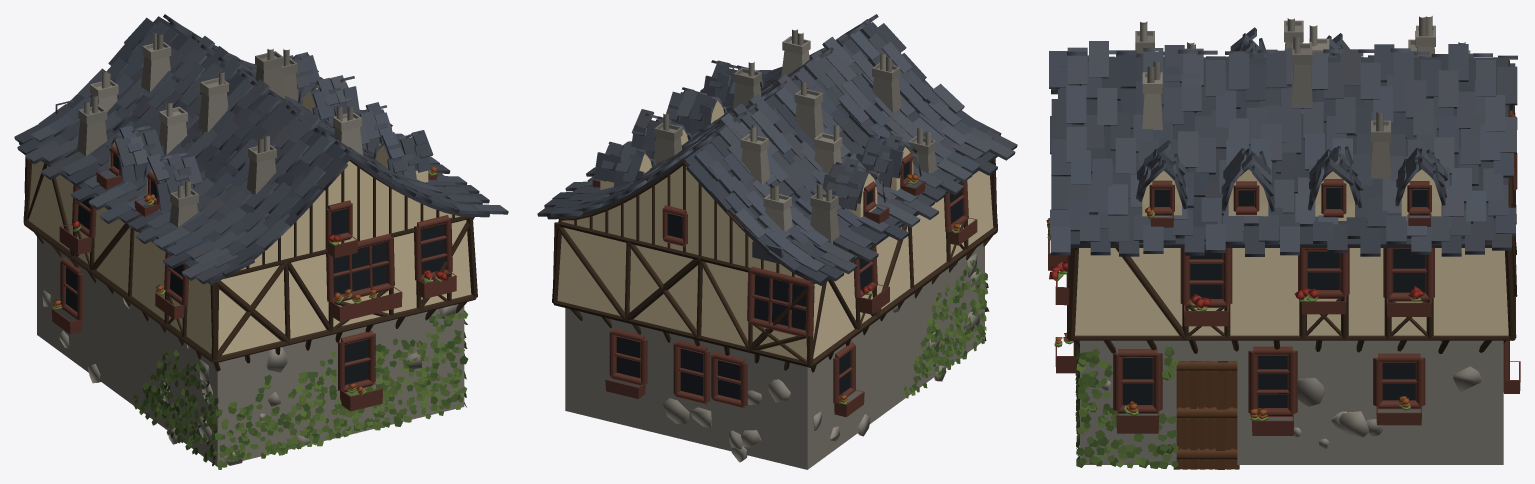
File: house_10.glb
3 views of the same model, side by side, from view 1: azimuth 30°, elevation 25°; view 2: azimuth 150°, elevation 25°; view 3: azimuth 270°, elevation 25° (orthographic). The views are drawn at different scales.
Parts seen in each view (by area): view 1: house_10; view 2: house_10; view 3: house_10.
Part boxes in pixels (<box>): house_10: <box>14,14,508,469</box>; house_10: <box>537,14,1017,469</box>; house_10: <box>1046,16,1520,469</box>.
Size of the model in its own units: 6.78 by 6.8 by 7.64.
